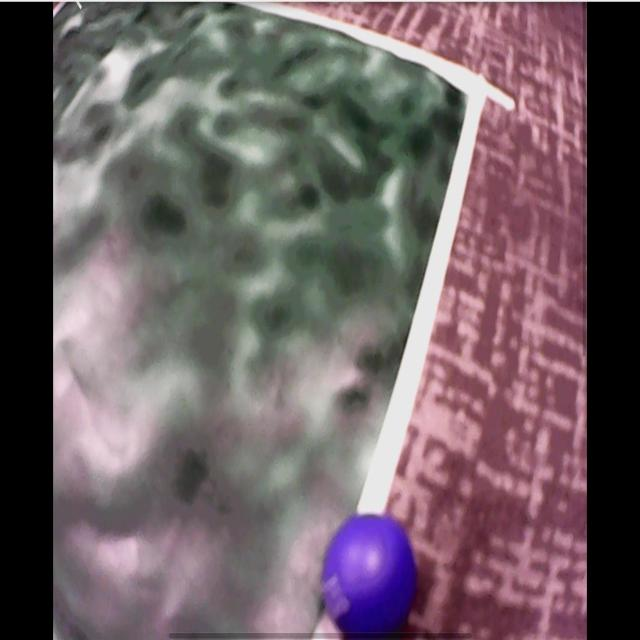ball: (323, 516, 415, 640)
